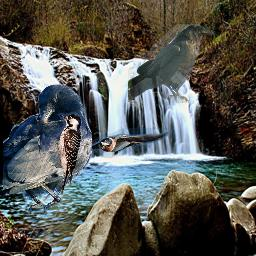Crow: (3, 84, 92, 214), (128, 24, 214, 103)
Swallow: (41, 128, 169, 161)
Woodpecker: (55, 112, 82, 197)
